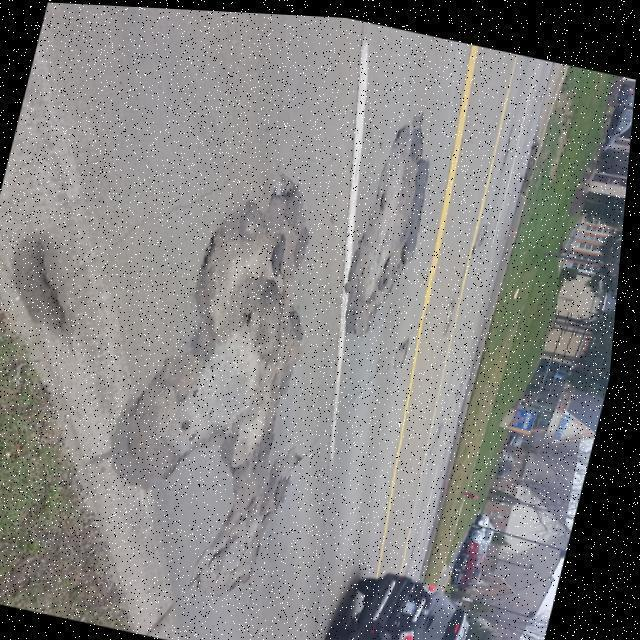Pothole: (120, 173, 317, 599), (343, 119, 433, 335), (13, 233, 72, 344), (401, 334, 415, 367)
